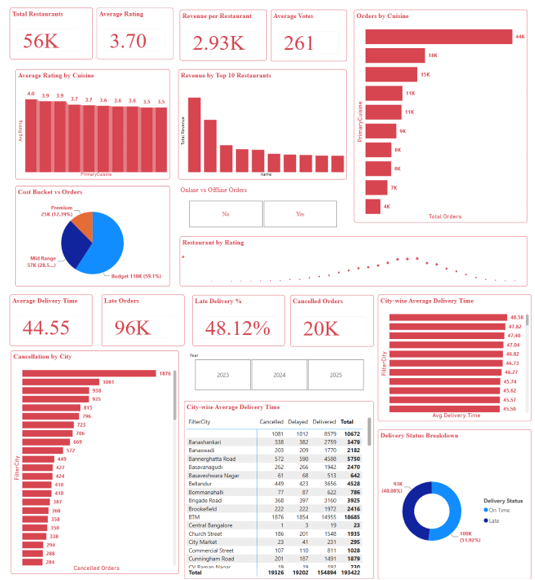

Layout of this report page (visuals, bound fields, positions):
{"tool":"powerbi","page":{"name":"Delivery and Operations","canvas":[1280,720],"ordinal":3},"visuals":[{"type":"cardVisual","title":"Average Delivery Time","fields":{"Data":["Orders.Avg Delivery Time"]},"box":[14.8,36.4,198.3,124.1],"z":0},{"type":"cardVisual","title":"Late Orders","fields":{"Data":["Orders.Late Orders"]},"box":[234.7,36.4,198.3,124.1],"z":1000},{"type":"cardVisual","title":"Late Delivery %","fields":{"Data":["Orders.Late Delivery %"]},"box":[451.9,37.8,221.2,122.8],"z":2000},{"type":"cardVisual","title":"Cancelled Orders","fields":{"Data":["Orders.Cancelled Orders"]},"box":[686.7,37.8,201,124.1],"z":3000},{"type":"pivotTable","title":"City-wise Average Delivery Time","fields":{"Rows":["Customers.FilterCity"],"Columns":["Orders.OrderStatus"],"Values":["Orders.Total Orders"]},"box":[433.1,292.7,454.6,427.7],"z":4000},{"type":"donutChart","title":"Delivery Status Breakdown","fields":{"Y":["Orders.Total Orders"],"Category":["Orders.Delivery Status"]},"box":[897.1,360.2,368.3,360.2],"z":5000},{"type":"barChart","title":"Cancellation by City","fields":{"Category":["Customers.FilterCity"],"Y":["Orders.Cancelled Orders"]},"box":[17.5,171.3,403.4,536.9],"z":6000},{"type":"barChart","title":"City-wise Average Delivery Time","fields":{"Category":["Customers.FilterCity"],"Y":["Orders.Avg Delivery Time"]},"box":[897.1,36.4,368.3,304.9],"z":7000},{"type":"slicer","title":"Tre","fields":{"Values":["DateTable.Date.Variation.Date Hierarchy.Year"]},"box":[433.1,171.3,454.6,102.5],"z":7001}]}

Visuals, with their boxes on the page's 1280x720 design canvas (x1, y1, x2, y2). These are canvas units, not pixel positions in the 535x580 screenshot, which may show the page scaled, cropped or inside an application window:
"Average Delivery Time" cardVisual: bbox=(15, 36, 213, 160)
"Late Orders" cardVisual: bbox=(235, 36, 433, 160)
"Late Delivery %" cardVisual: bbox=(452, 38, 673, 161)
"Cancelled Orders" cardVisual: bbox=(687, 38, 888, 162)
"City-wise Average Delivery Time" pivotTable: bbox=(433, 293, 888, 720)
"Delivery Status Breakdown" donutChart: bbox=(897, 360, 1265, 720)
"Cancellation by City" barChart: bbox=(18, 171, 421, 708)
"City-wise Average Delivery Time" barChart: bbox=(897, 36, 1265, 341)
"Tre" slicer: bbox=(433, 171, 888, 274)
